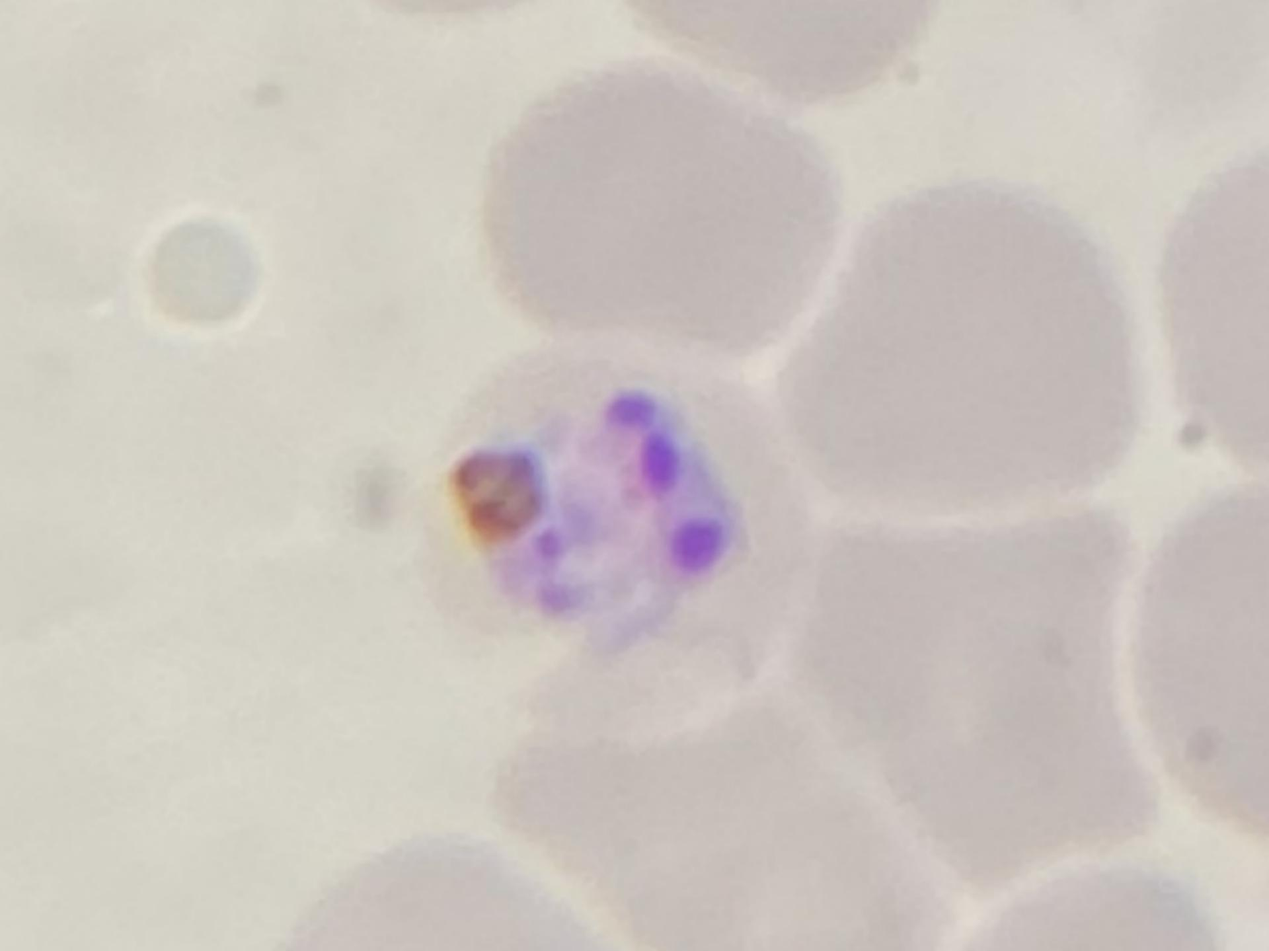Infected: (423, 333, 809, 750)
Uninfected: (795, 503, 1172, 880), (493, 664, 952, 951), (775, 181, 1147, 524), (467, 49, 843, 377)
